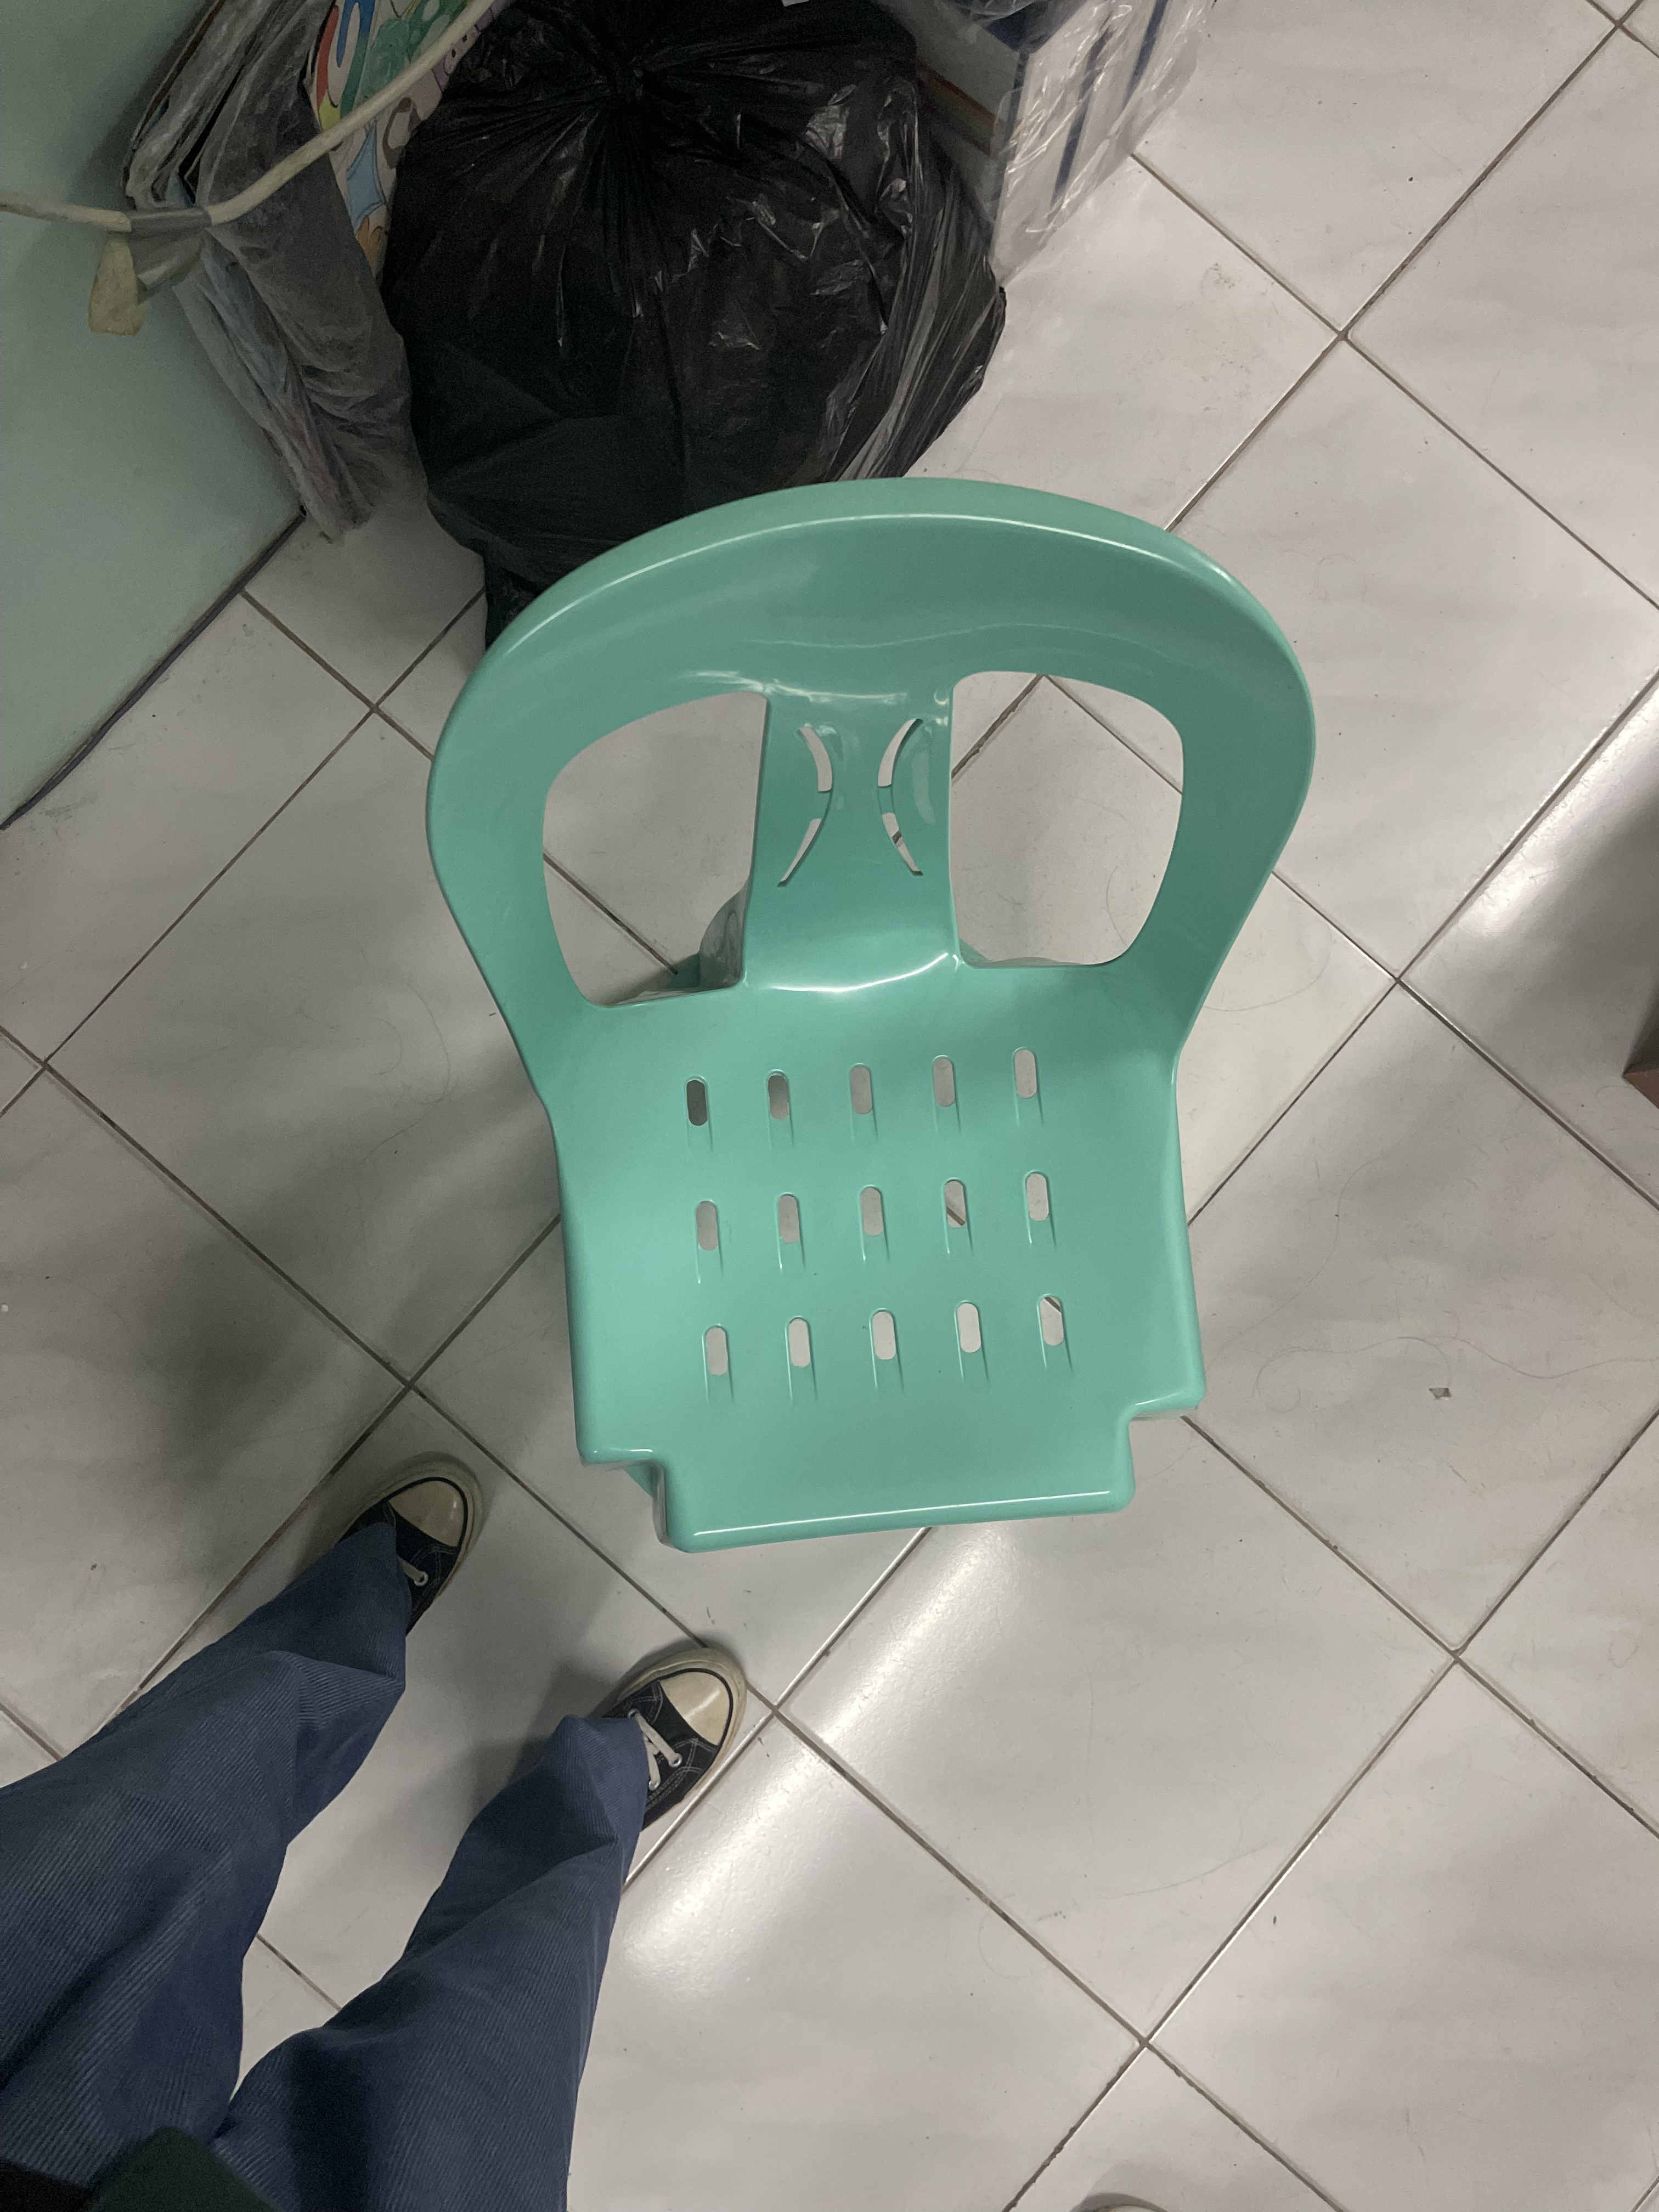chair2: (415, 467, 1326, 1559)
